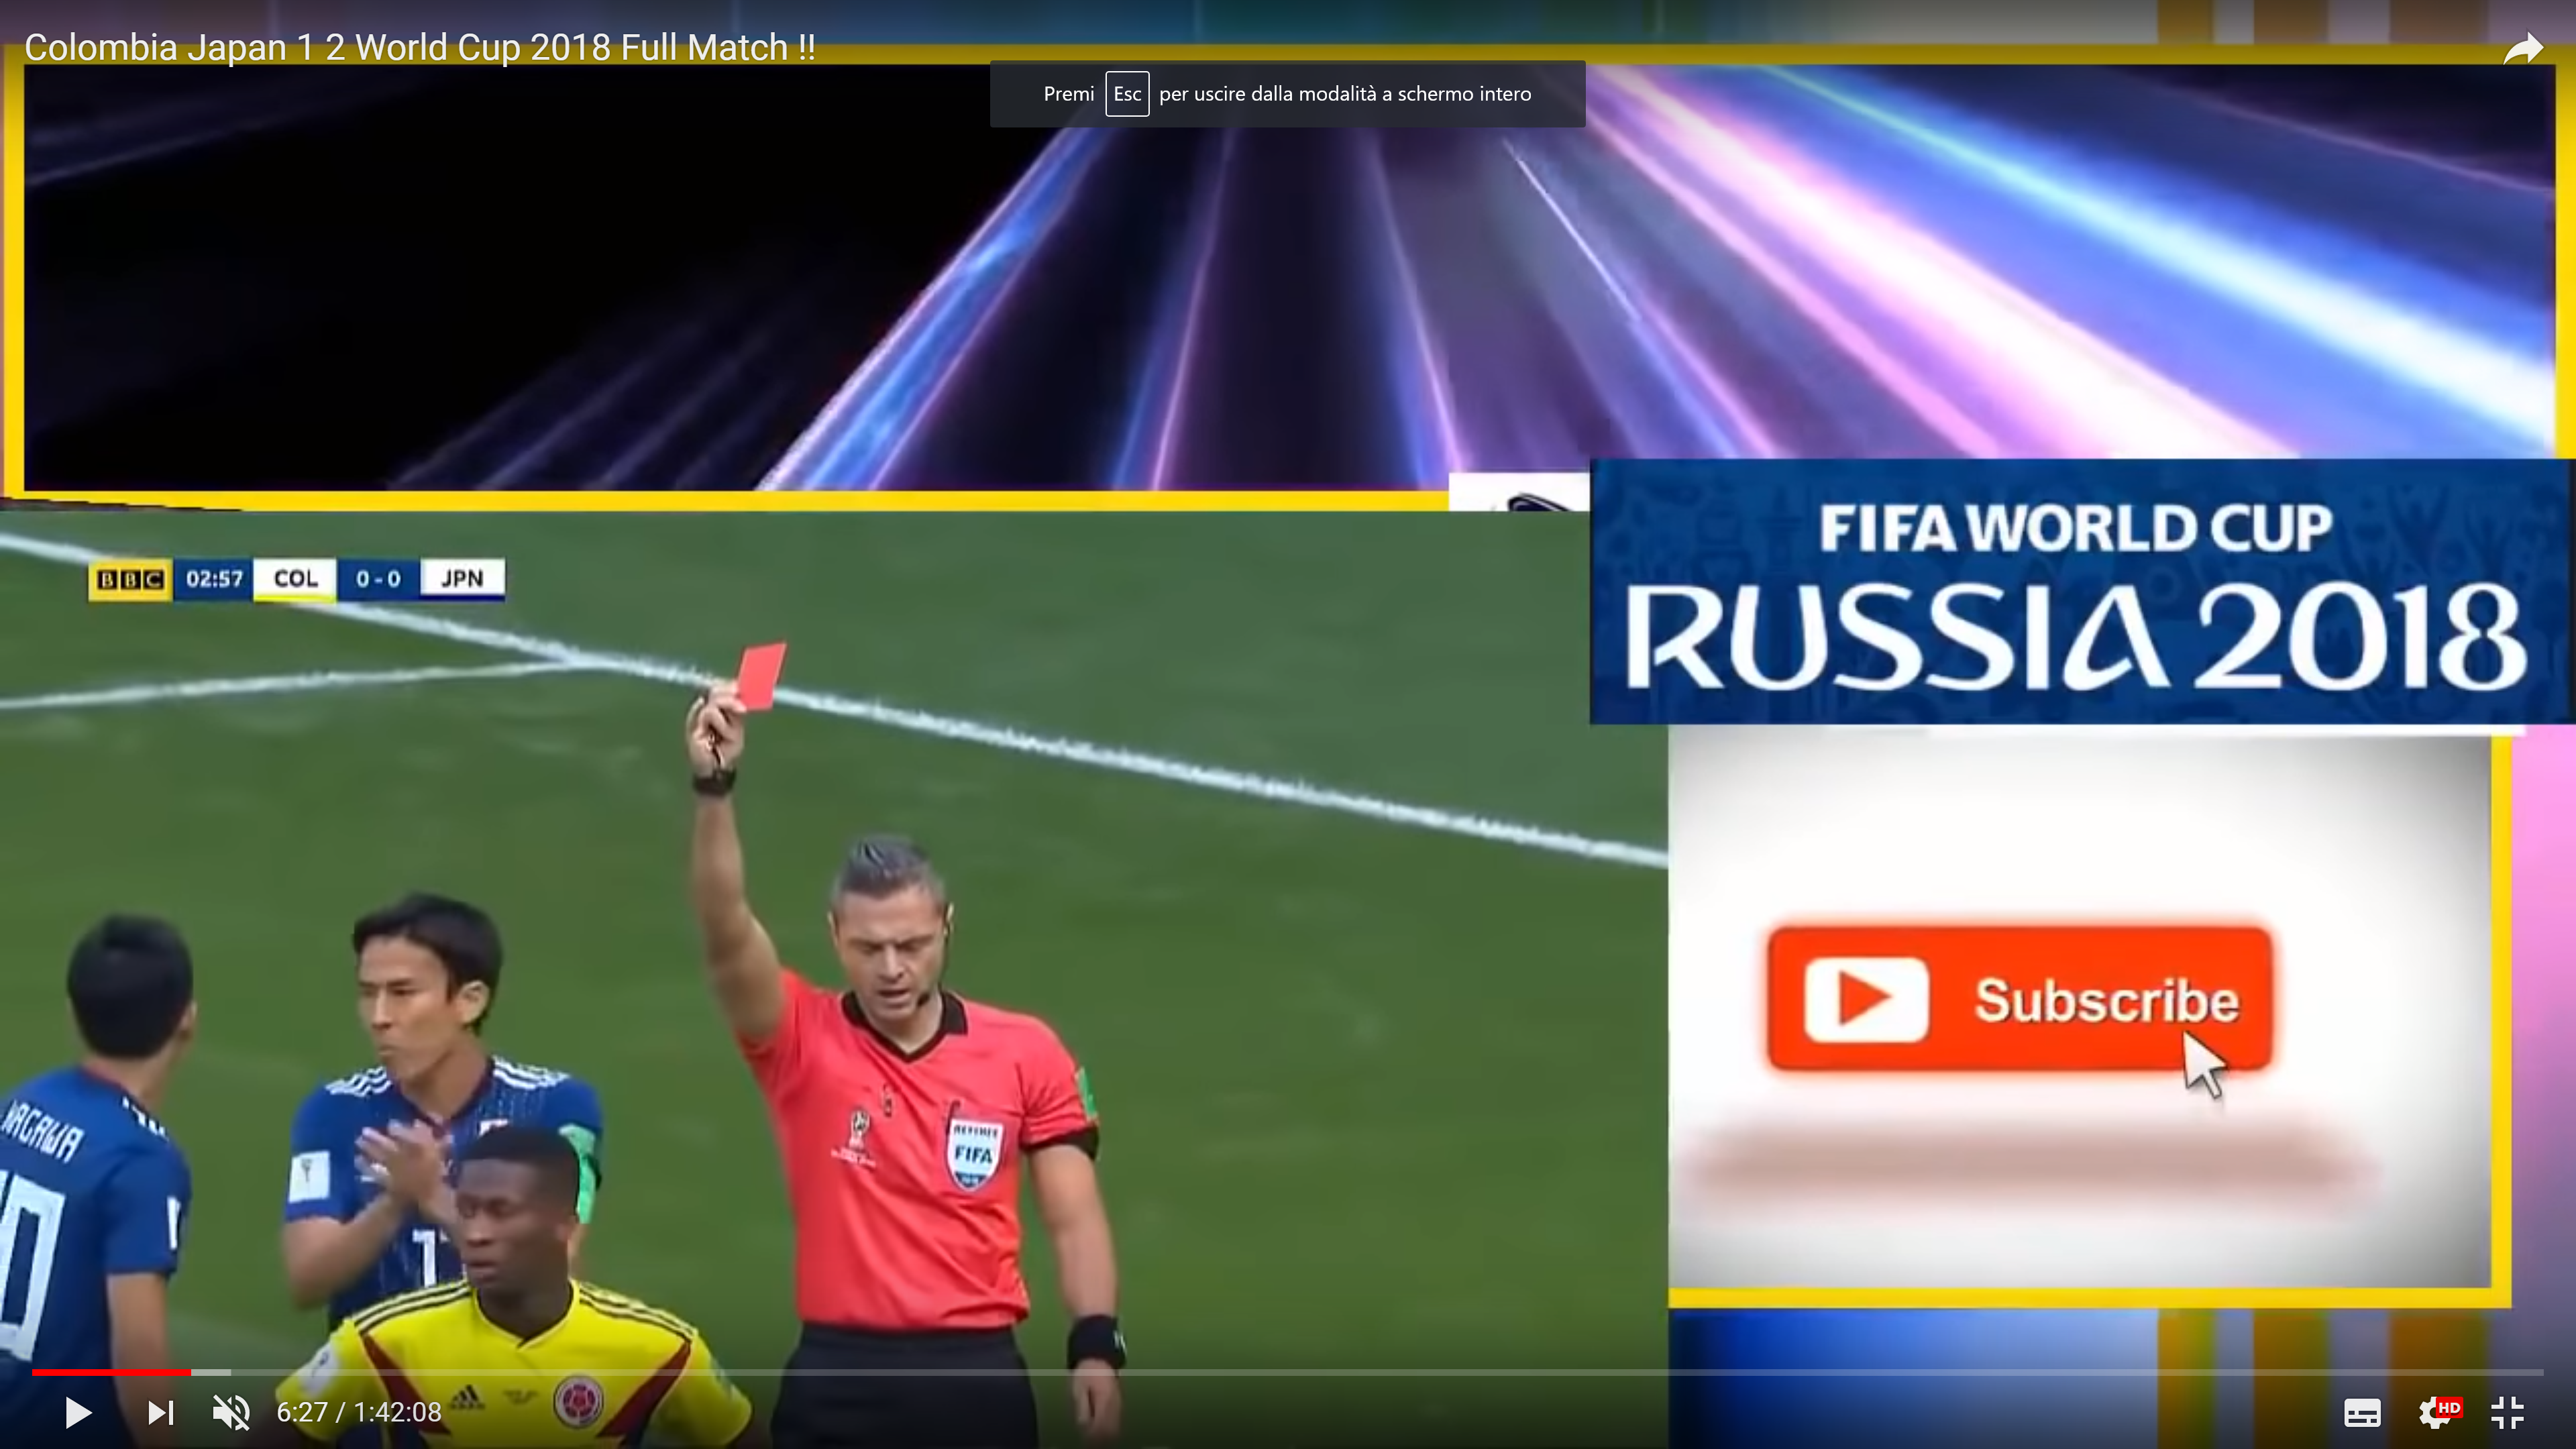red_card: (685, 635, 791, 793)
